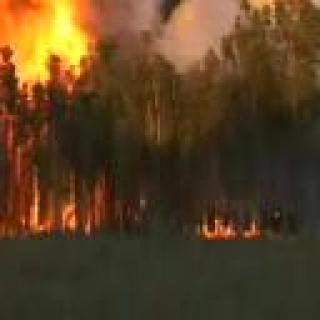fire: (0, 0, 95, 232), (203, 215, 261, 240)
